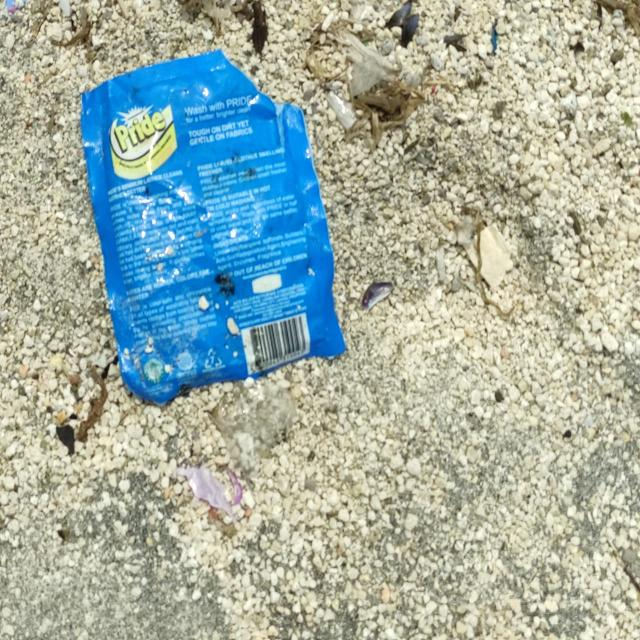plastic_waste: (79, 47, 349, 409), (175, 465, 243, 518)
